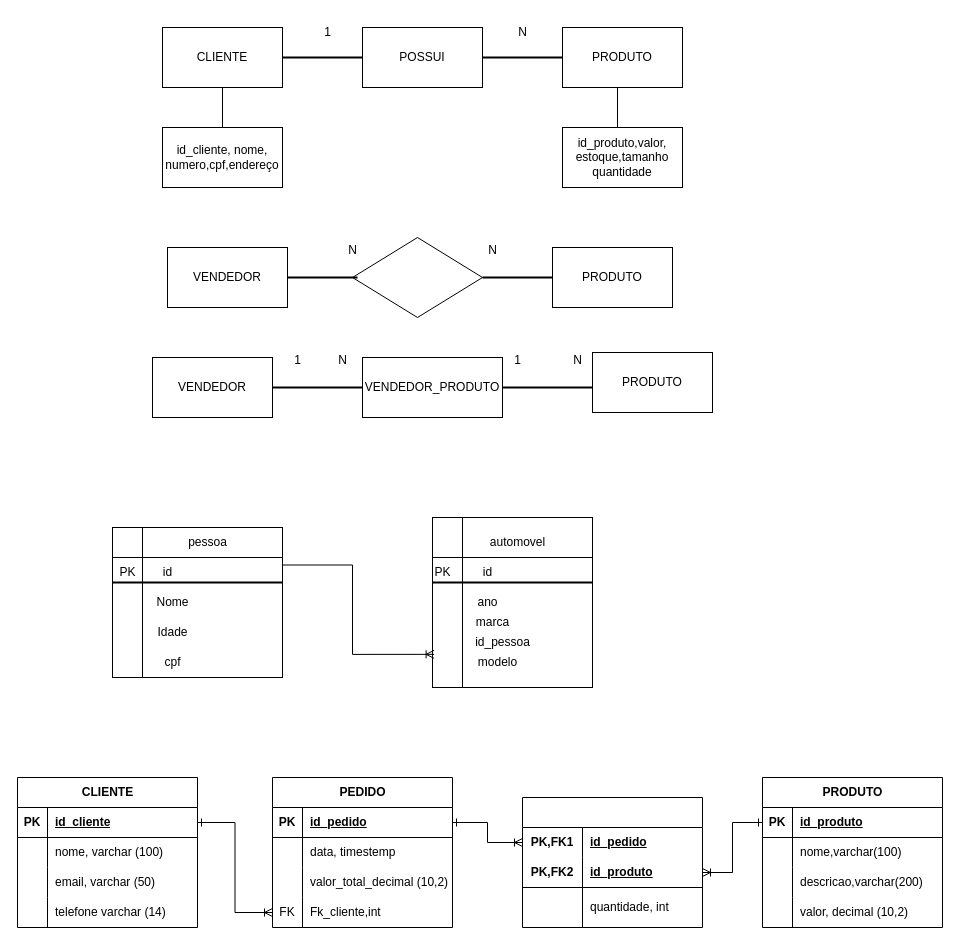
Image size: 960x945. Some labels were removed from this diagram. The box of each missing label's shape, as (x1, y1, x2, y2) in pixels:
Table: (522, 796, 702, 928)
VENDE: (352, 236, 482, 318)
